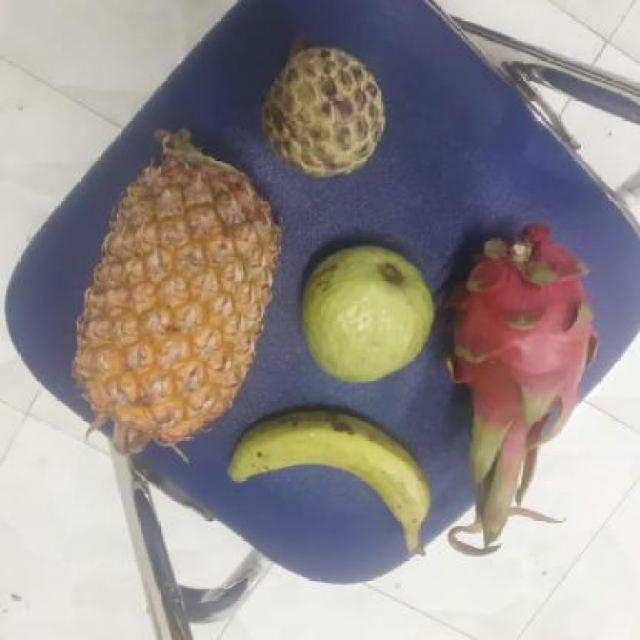banana: (226, 414, 426, 541)
dragon fruit: (436, 228, 593, 450)
guava: (293, 246, 435, 386)
pineapple: (64, 144, 274, 451)
sugar apple: (254, 47, 386, 181)
